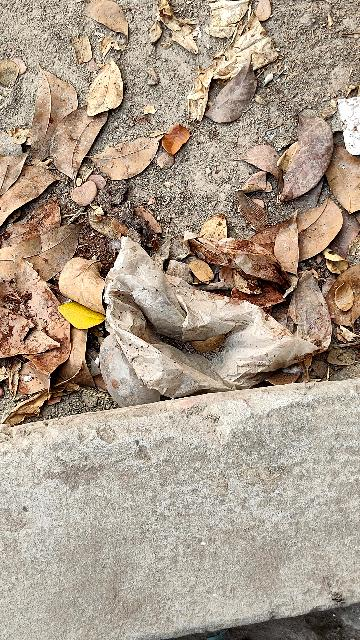polythene: (108, 222, 299, 393)
